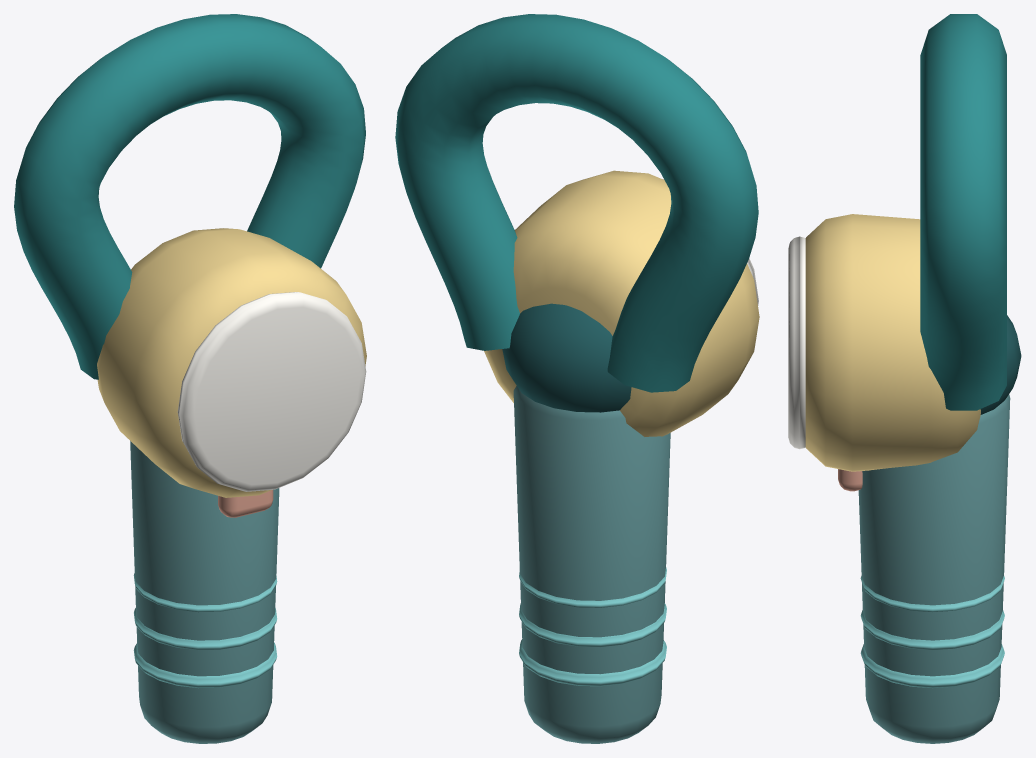
Rendered from FlashlightTravel.fbx.
The picture shows the model from 3 angles, left to right: view 1: azimuth 30°, elevation 25°; view 2: azimuth 150°, elevation 25°; view 3: azimuth 270°, elevation 25°; orthographic projection. The views are drawn at different scales.
Parts seen in each view (by area): view 1: FoldOutCarryHandle, Grip, Lens, LampHead, GripRing, GripRing.001, GripRing.002, Switch; view 2: FoldOutCarryHandle, Grip, LampHead, HingedHeadJoint, GripRing, GripRing.001, GripRing.002; view 3: Grip, FoldOutCarryHandle, LampHead, Lens, GripRing, GripRing.001, GripRing.002, HingedHeadJoint, Switch.
Part boxes in pixels (x1,y1,x2,y2): FoldOutCarryHandle: (14, 14, 365, 379); Grip: (130, 441, 279, 743); Lens: (177, 292, 366, 491); LampHead: (97, 228, 366, 497); GripRing: (133, 642, 277, 688); GripRing.001: (134, 608, 277, 650); GripRing.002: (133, 573, 277, 612); Switch: (218, 490, 273, 517); FoldOutCarryHandle: (395, 14, 758, 392); Grip: (513, 386, 670, 743); LampHead: (484, 170, 759, 436); HingedHeadJoint: (502, 303, 631, 412); GripRing: (519, 639, 666, 686); GripRing.001: (519, 603, 666, 647); GripRing.002: (519, 567, 666, 607); Grip: (858, 394, 1010, 743); FoldOutCarryHandle: (920, 14, 1006, 410); LampHead: (805, 214, 980, 471); Lens: (788, 236, 805, 449); GripRing: (860, 644, 1004, 688); GripRing.001: (860, 610, 1004, 649); GripRing.002: (860, 576, 1004, 611); HingedHeadJoint: (980, 315, 1021, 414); Switch: (838, 469, 862, 491).
Bounding box in the file's own units: 18.98 × 36.97 × 11.3.
